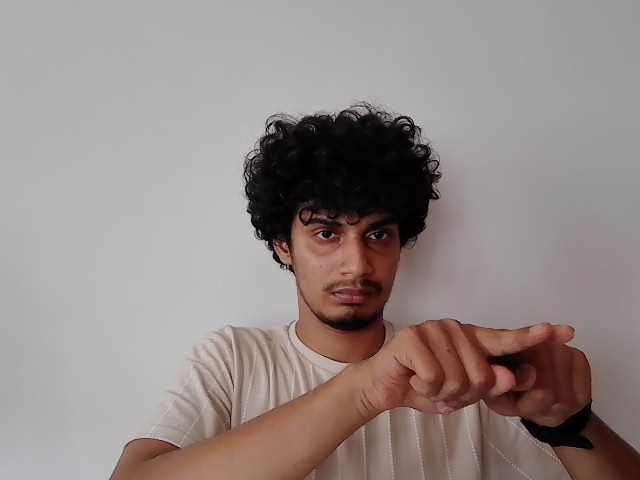same: (372, 317, 593, 422)
